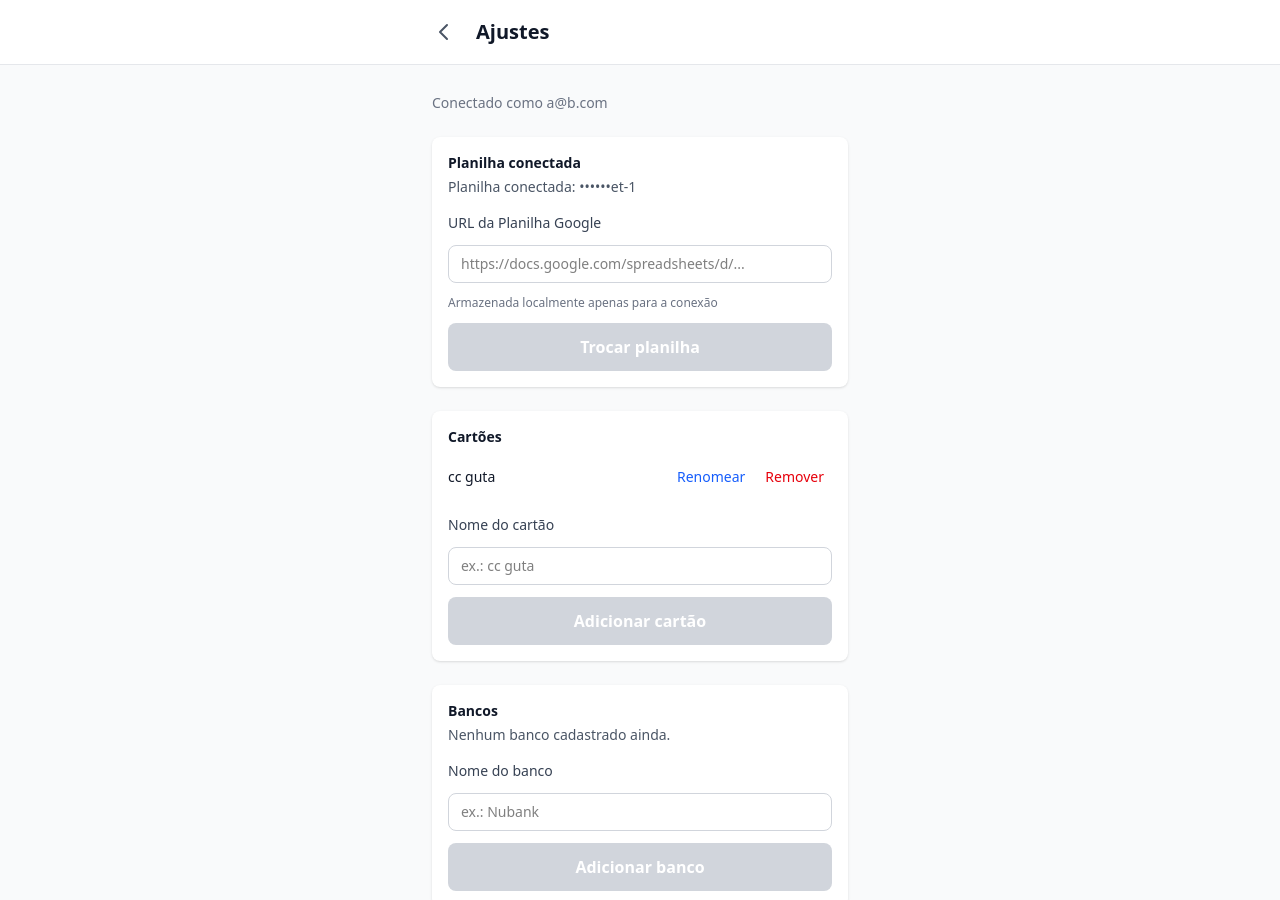
Scenario: Settings card registry › renames a card and writes the updated registry back to the sheet
When the user renames it
Click the button with aria-label "Renomear cc guta".
click(711, 477)  # box left=669, top=463, right=753, bottom=491
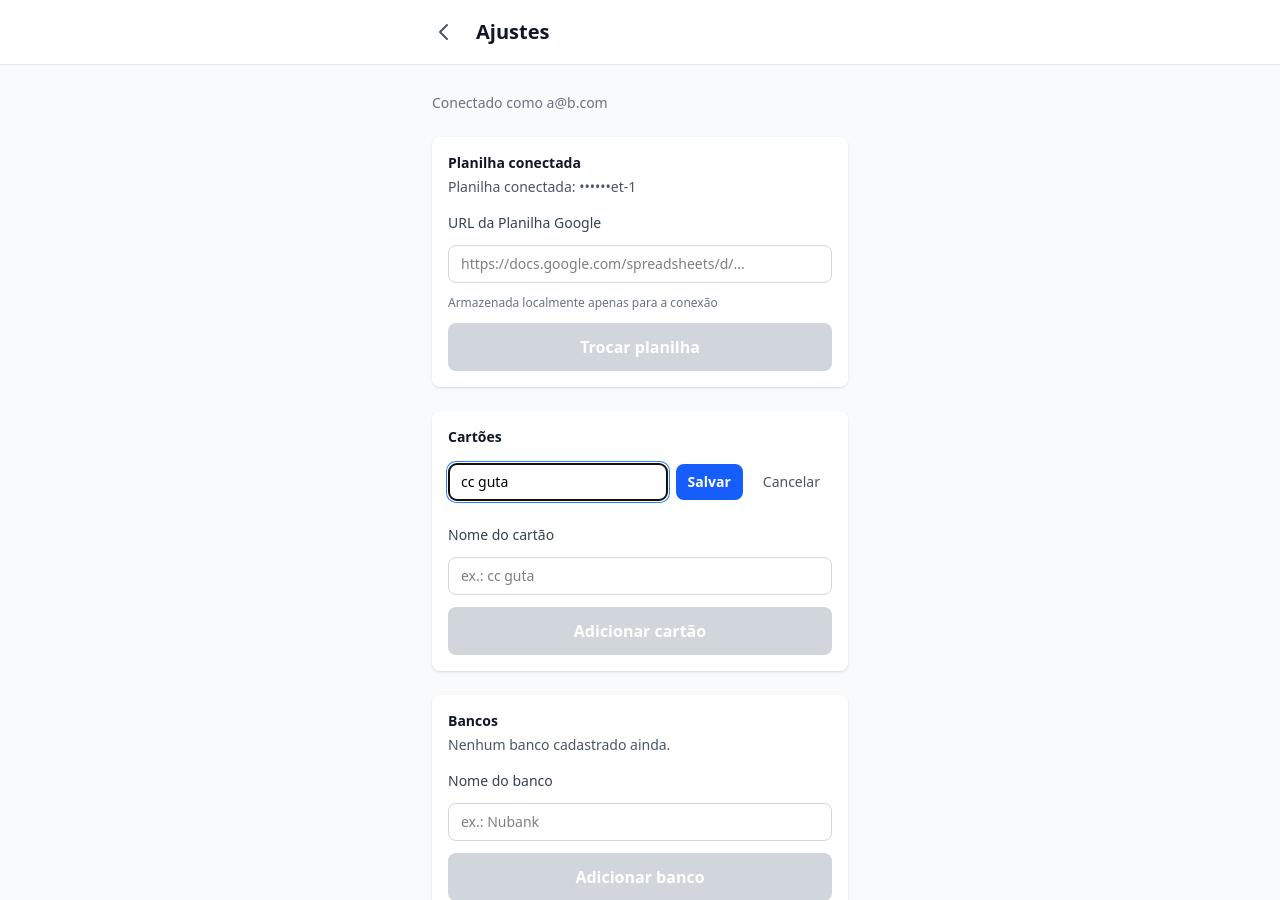
Replace the text in the field named "Novo nome do cartão" with "cc guta visa" at (558, 482), box left=448, top=463, right=668, bottom=501
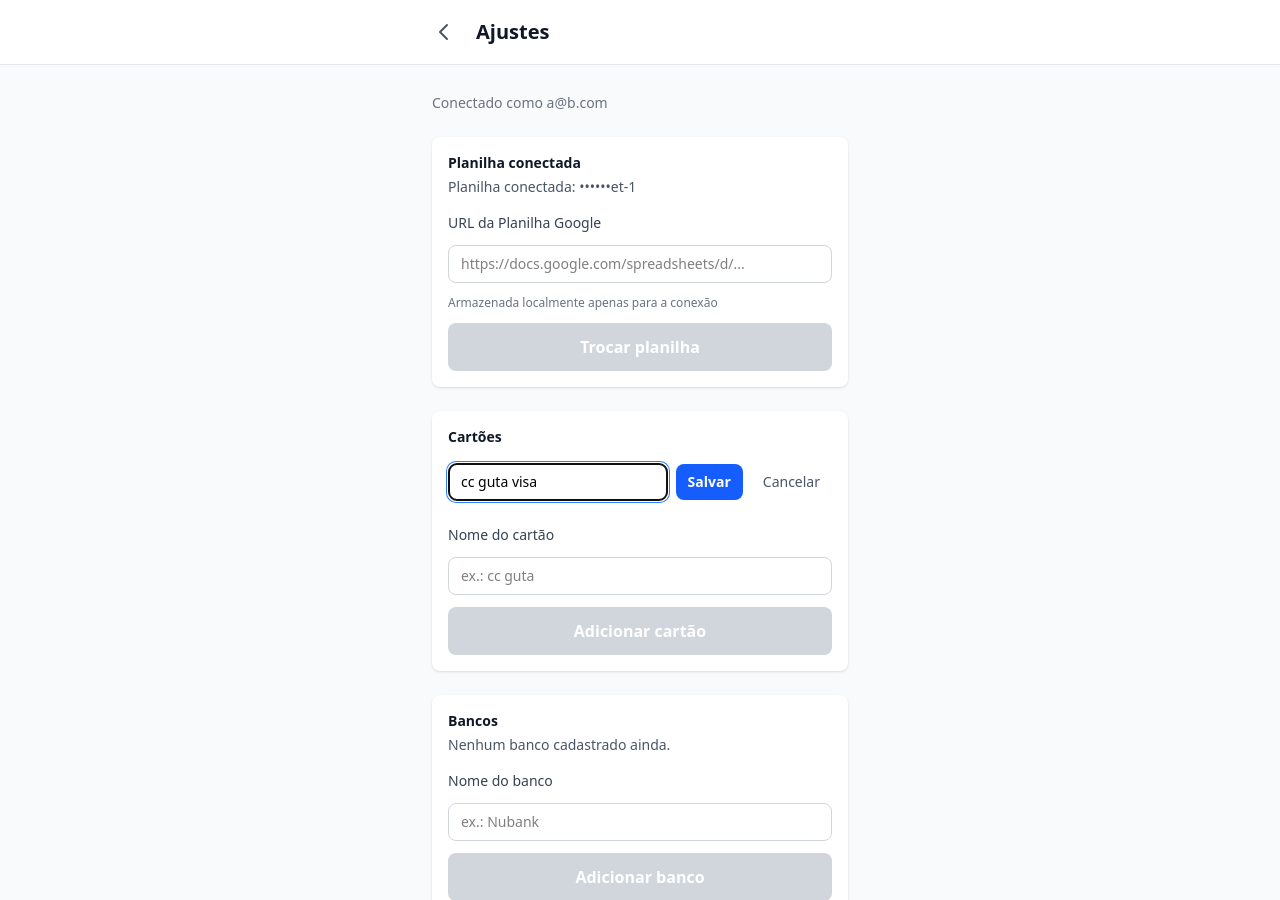
Click the button "Salvar".
click(709, 482)  # box left=676, top=464, right=743, bottom=500
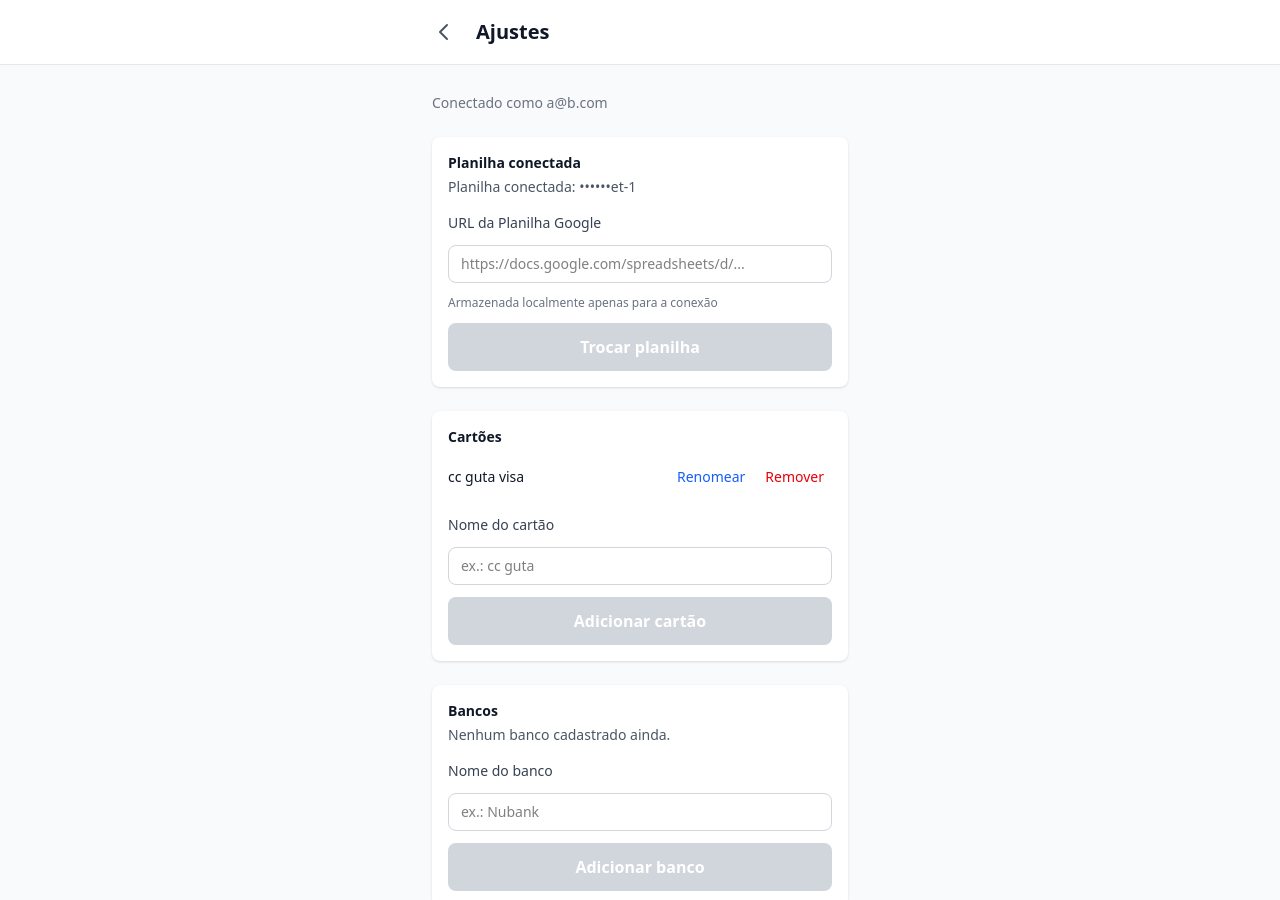
Now the text "cc guta visa" is shown, box left=448, top=467, right=524, bottom=487
